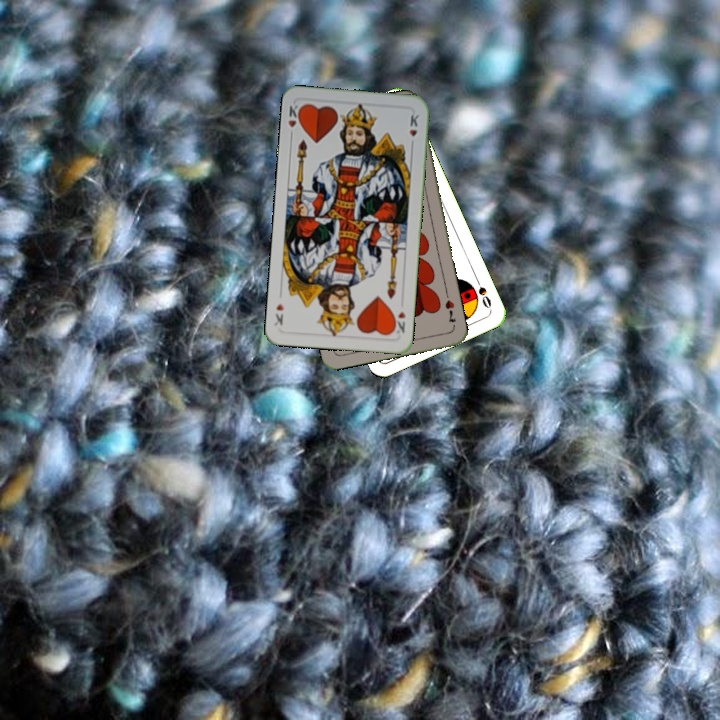H7: (441, 296, 458, 325)
HK: (284, 100, 304, 141), (389, 307, 408, 336)
SO: (472, 274, 494, 313)
